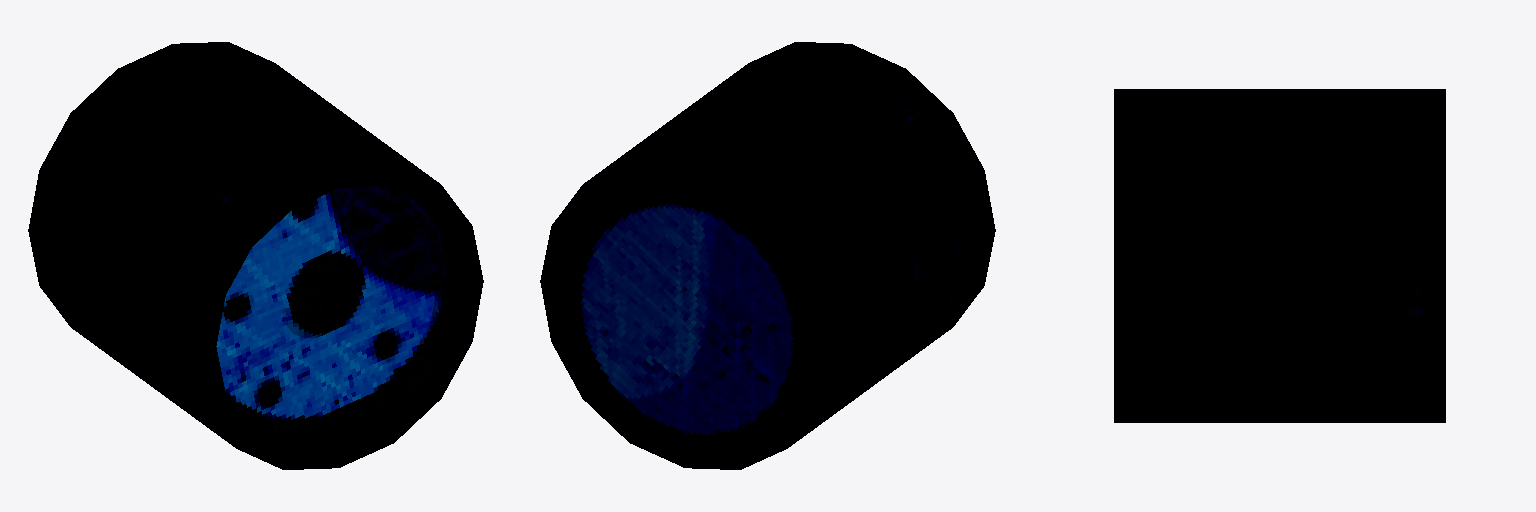
3 renders of one model, left to right at view 1: azimuth 30°, elevation 25°; view 2: azimuth 150°, elevation 25°; view 3: azimuth 270°, elevation 25°, orthographic.
Visible parts, largest first — view 1: fblw_Cylinder.002; view 2: fblw_Cylinder.002; view 3: fblw_Cylinder.002.
Part boxes in pixels (x1,y1,x2,y2): fblw_Cylinder.002: (28,42,483,469); fblw_Cylinder.002: (540,42,995,469); fblw_Cylinder.002: (1114,89,1445,422).
Bounding box in the file's own units: 0.7388 × 0.7388 × 0.7329.
Materials: 1 (1 with a texture image).